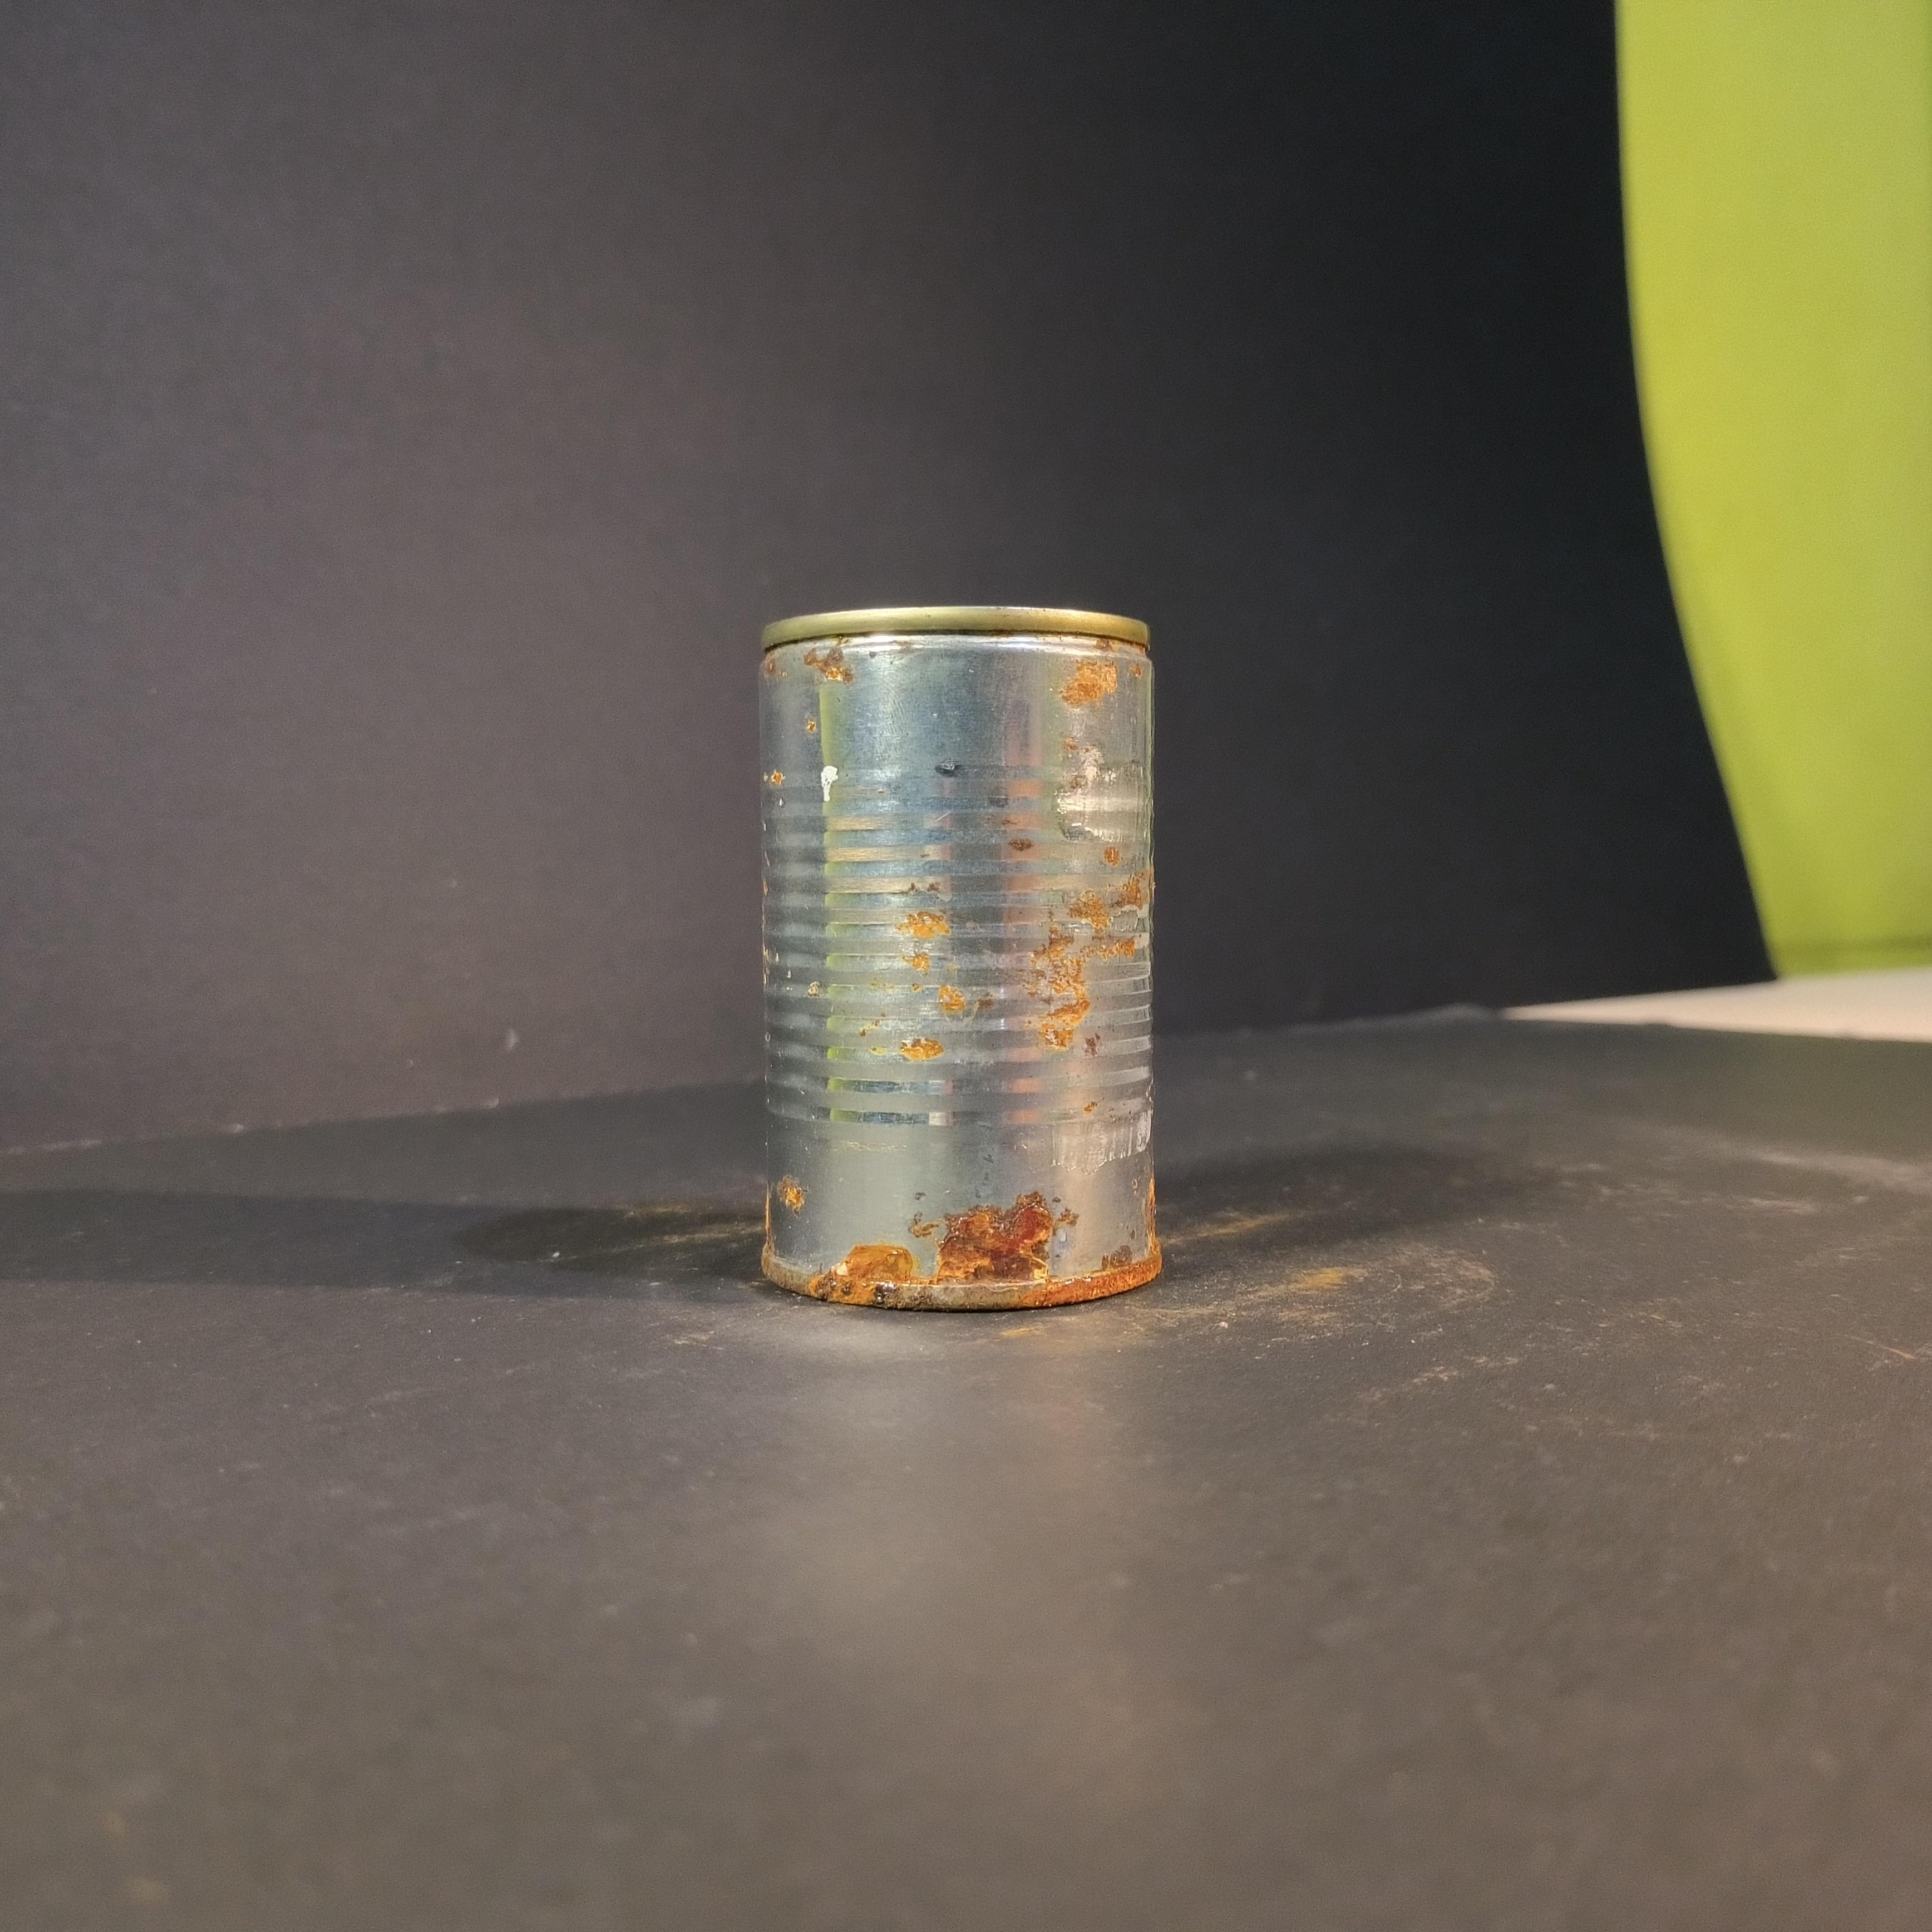Rusted: (720, 564, 1194, 1355)
